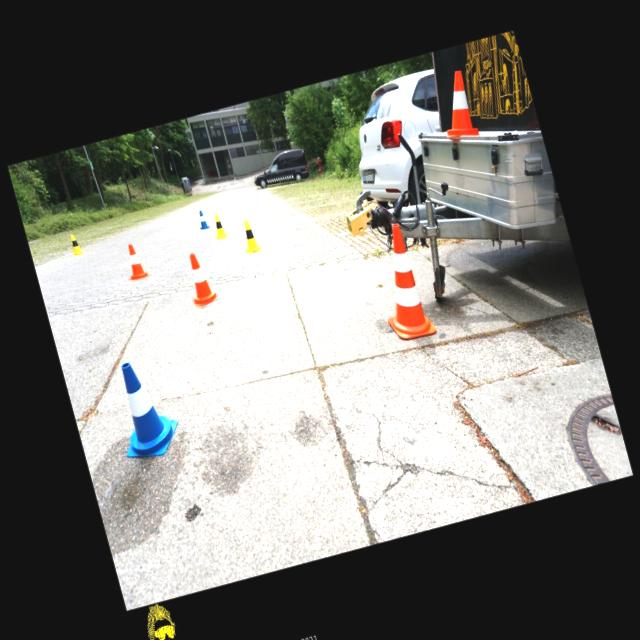blue_cone: (104, 353, 184, 462), (196, 209, 209, 229)
large_orange_cone: (363, 220, 438, 344)
orange_cone: (432, 68, 479, 140), (180, 248, 219, 308), (120, 241, 150, 281)
yellow_cone: (237, 218, 261, 254), (209, 212, 227, 239), (68, 232, 84, 256)
